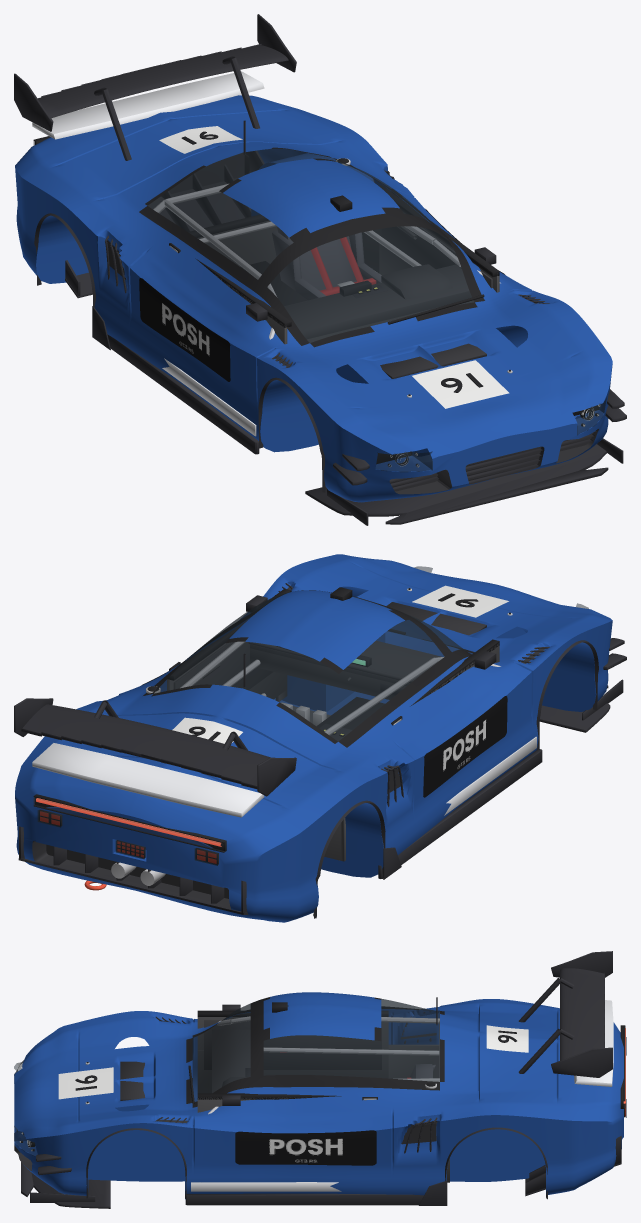
Rendered from posh_gt3rs.glb.
The picture shows the model from 3 angles, top to bottom: view 1: azimuth 30°, elevation 25°; view 2: azimuth 150°, elevation 25°; view 3: azimuth 270°, elevation 25°; orthographic projection. The views are drawn at different scales.
Parts seen in each view (by area): view 1: posh_gt3rs; view 2: posh_gt3rs; view 3: posh_gt3rs.
Part boxes in pixels (box(x1,y1,x2,y2)): posh_gt3rs: box(14, 14, 626, 525); posh_gt3rs: box(14, 554, 626, 922); posh_gt3rs: box(14, 951, 626, 1208).
Size of the model in its own units: 2.14 by 1.31 by 4.68.
25 materials, 1 textured.
